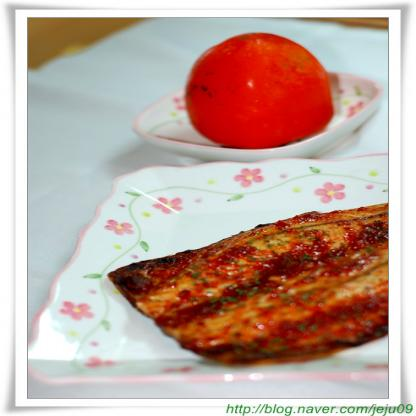Peixe: (114, 193, 416, 392)
